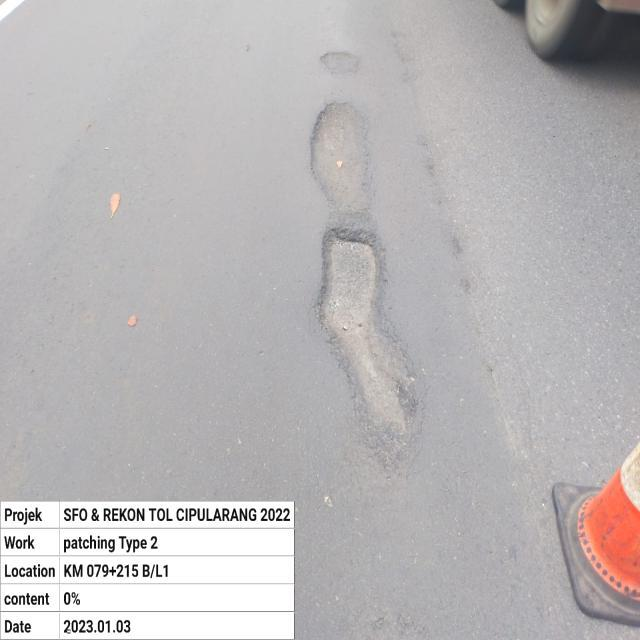Buraco: (312, 224, 422, 474), (306, 99, 374, 217), (318, 49, 362, 76)
